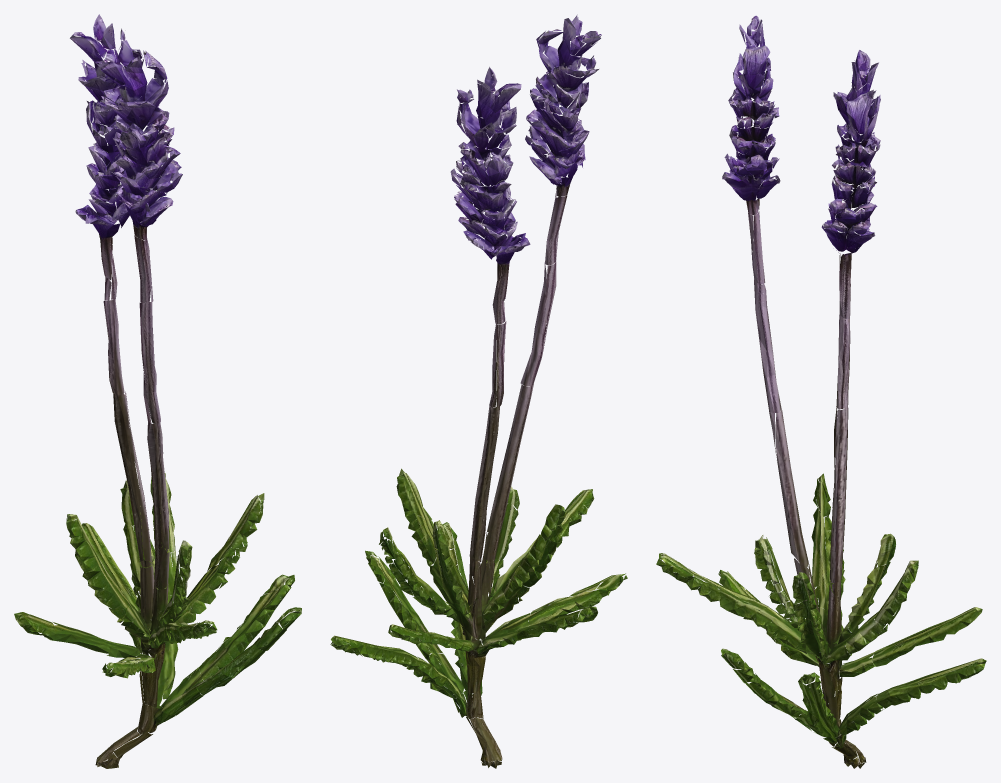
Rendered from flor_14_lavanda.glb.
3 views of the same model, side by side, from view 1: azimuth 30°, elevation 25°; view 2: azimuth 150°, elevation 25°; view 3: azimuth 270°, elevation 25° (orthographic). The views are drawn at different scales.
Visible parts, largest first — view 1: tripo_node_ae49171f-bdea-4b55-a3c2-924e016758f1; view 2: tripo_node_ae49171f-bdea-4b55-a3c2-924e016758f1; view 3: tripo_node_ae49171f-bdea-4b55-a3c2-924e016758f1.
Boxes of the visible parts, x1,y1,x2,y2 form: tripo_node_ae49171f-bdea-4b55-a3c2-924e016758f1: (14,14,301,768); tripo_node_ae49171f-bdea-4b55-a3c2-924e016758f1: (330,14,627,768); tripo_node_ae49171f-bdea-4b55-a3c2-924e016758f1: (656,15,986,768).
Size of the model in its own units: 0.3612 by 1.01 by 0.4131.
Materials: 1 (1 with a texture image).
